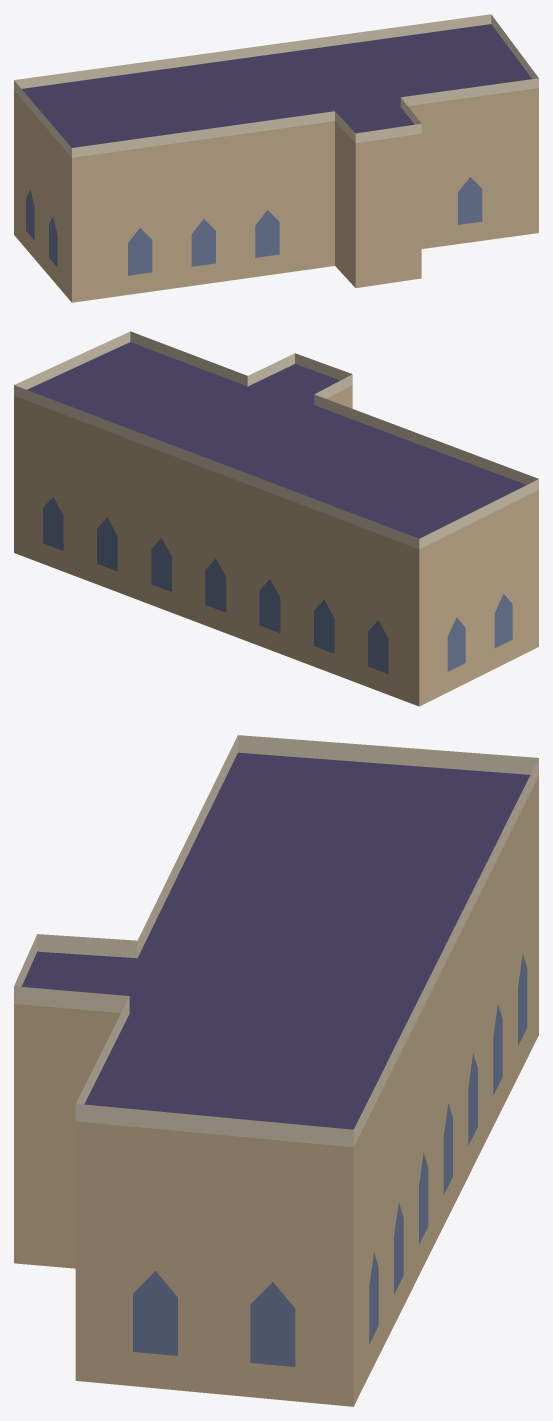
Rendered from b-072-mcintosh-art-gallery-day.glb.
3 views of the same model, one above another, from view 1: azimuth 30°, elevation 25°; view 2: azimuth 150°, elevation 25°; view 3: azimuth 270°, elevation 25° (orthographic). The views are drawn at different scales.
Visible parts, largest first — view 1: campus/b-072-mcintosh-art-gallery-day-0; view 2: campus/b-072-mcintosh-art-gallery-day-0; view 3: campus/b-072-mcintosh-art-gallery-day-0.
Part boxes in pixels (x1=…): campus/b-072-mcintosh-art-gallery-day-0: x1=14, y1=14, x2=538, y2=302; campus/b-072-mcintosh-art-gallery-day-0: x1=14, y1=331, x2=538, y2=706; campus/b-072-mcintosh-art-gallery-day-0: x1=14, y1=735, x2=538, y2=1406.
Size of the model in its own units: 26.41 by 8.65 by 14.85.
